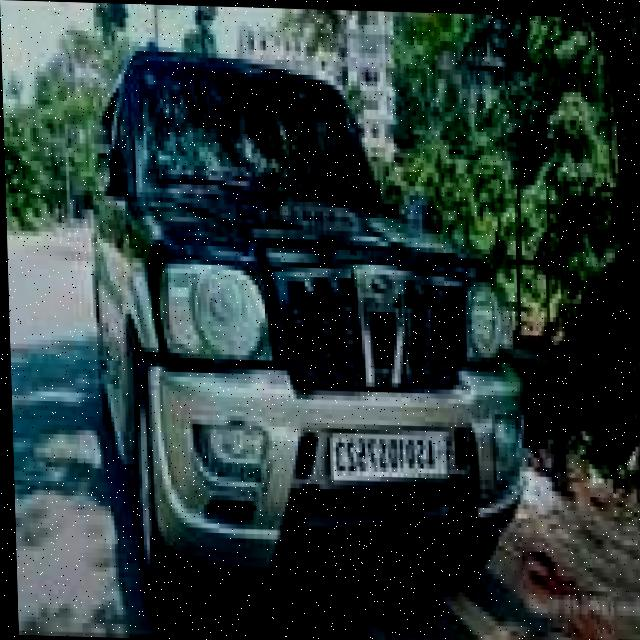plate: (326, 423, 447, 487)
